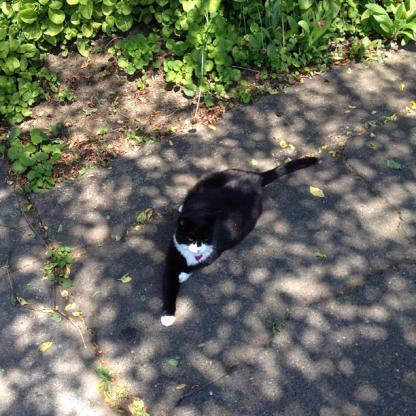Target: (159, 153, 318, 330)
